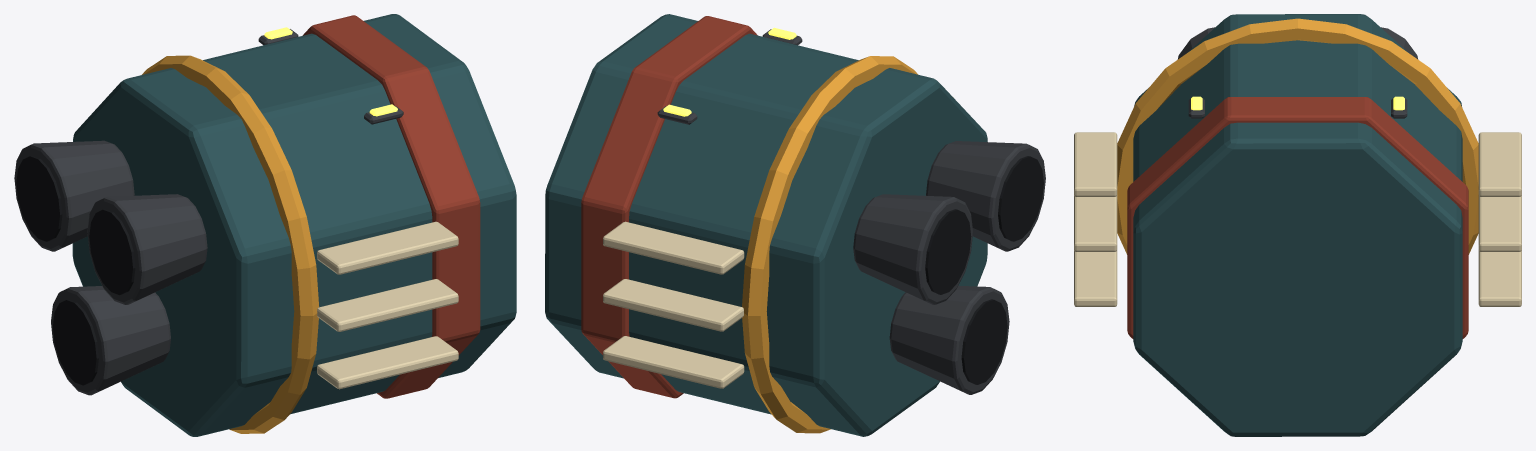
The model's file is cruise-mk2.glb.
3 renders of one model, left to right at view 1: azimuth 30°, elevation 25°; view 2: azimuth 150°, elevation 25°; view 3: azimuth 270°, elevation 25°, orthographic. The views are drawn at different scales.
Parts seen in each view (by area): view 1: cruise_mk2 body; view 2: cruise_mk2 body; view 3: cruise_mk2 body.
Part boxes in pixels (x1=…): cruise_mk2 body: x1=14, y1=14, x2=516, y2=436; cruise_mk2 body: x1=545, y1=14, x2=1045, y2=436; cruise_mk2 body: x1=1074, y1=14, x2=1521, y2=436.
Size of the model in its own units: 2.96 by 2.78 by 3.32.
